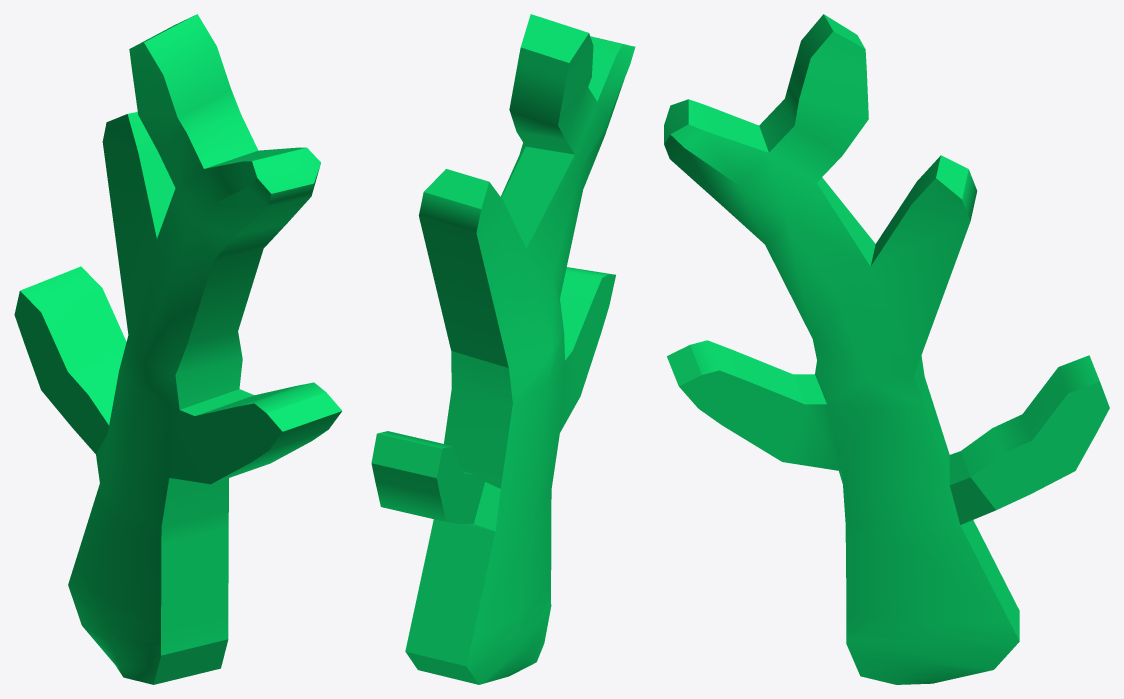
File: CoralVerde.fbx
3 renders of one model, left to right at view 1: azimuth 30°, elevation 25°; view 2: azimuth 150°, elevation 25°; view 3: azimuth 270°, elevation 25°, orthographic. The views are drawn at different scales.
Parts seen in each view (by area): view 1: pCube4; view 2: pCube4; view 3: pCube4.
Part boxes in pixels (bbox=[...]): pCube4: bbox=[14, 14, 341, 684]; pCube4: bbox=[371, 14, 635, 684]; pCube4: bbox=[664, 14, 1109, 684].
Size of the model in its own units: 0.7068 by 3.81 by 2.43.
